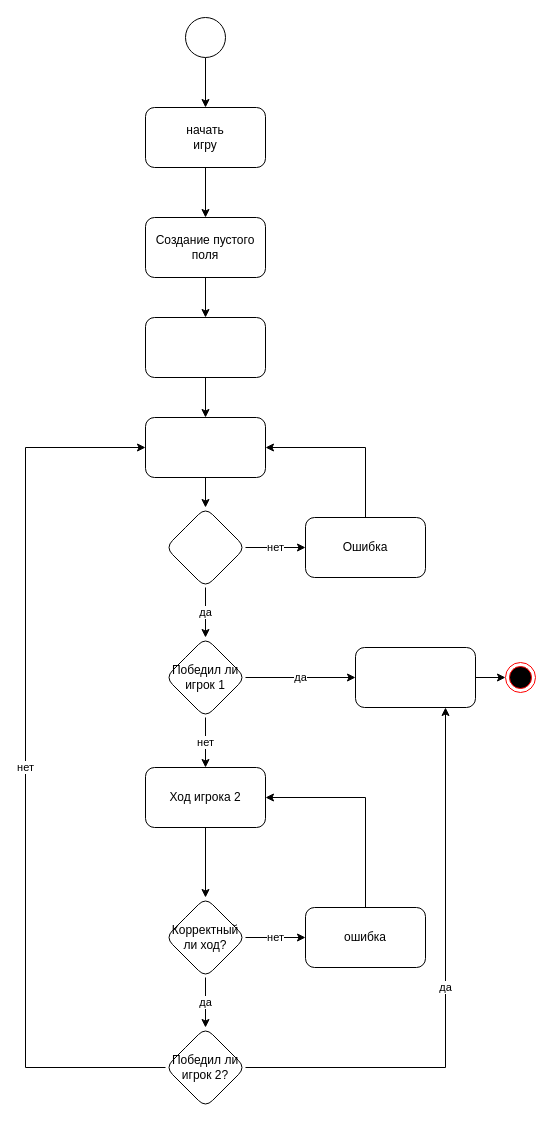
Image size: 553x1125. Some labels were removed from this diagram. Each missing label, with the centre of its shape:
"Корреткный ли ход?" goes at point 205,547.
"Создать игроков" goes at point 205,347.
"Сообщение о победе" goes at point 415,677.
"Ход игрока 1" goes at point 205,447.
